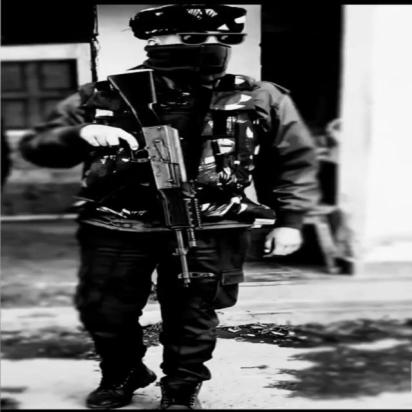Gun: (104, 67, 218, 290)
